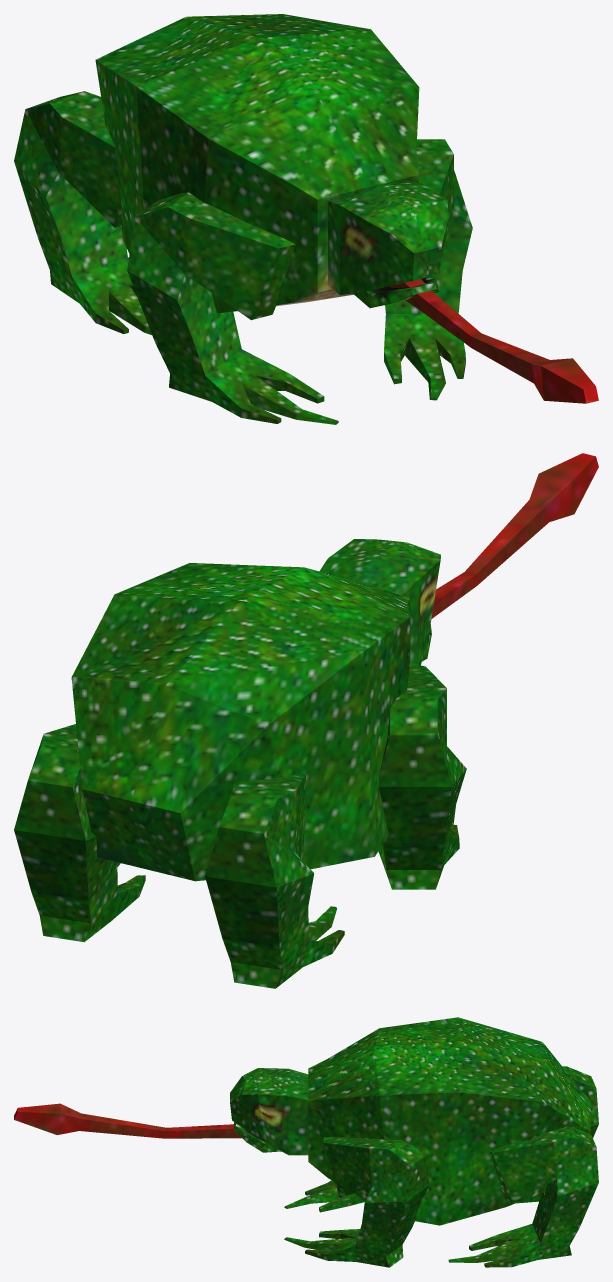
The model's file is aglebemu.obj.
The picture shows the model from 3 angles, top to bottom: view 1: azimuth 30°, elevation 25°; view 2: azimuth 150°, elevation 25°; view 3: azimuth 270°, elevation 25°; orthographic projection. The views are drawn at different scales.
Visible parts, largest first — view 1: Body, LegRightFront, LegRightBack, Head, LegLeftFront, Tongue, Mouth; view 2: Body, LegRightBack, LegLeftBack, LegRightFront, Head, Tongue; view 3: Body, LegLeftBack, LegLeftFront, Head, Tongue, LegRightFront, LegRightBack, Mouth.
Part boxes in pixels (<box>): Body: <box>95,14,419,313</box>; LegRightFront: <box>127,192,338,424</box>; LegRightBack: <box>14,91,151,334</box>; Head: <box>328,181,448,295</box>; LegLeftFront: <box>384,139,472,400</box>; Tongue: <box>390,279,598,403</box>; Mouth: <box>353,276,439,308</box>; Body: <box>71,563,410,881</box>; LegRightBack: <box>205,774,344,988</box>; LegLeftBack: <box>14,724,145,942</box>; LegRightFront: <box>378,663,466,889</box>; Head: <box>319,539,440,665</box>; Tongue: <box>431,453,598,618</box>; Body: <box>308,1017,590,1225</box>; LegLeftBack: <box>448,1126,598,1267</box>; LegLeftFront: <box>284,1137,428,1267</box>; Head: <box>230,1068,308,1155</box>; Tongue: <box>14,1103,241,1138</box>; LegRightFront: <box>284,1180,365,1212</box>; LegRightBack: <box>516,1066,598,1203</box>; Mouth: <box>234,1122,281,1152</box>.
Size of the model in its own units: 2.54 by 2.05 by 5.93.
